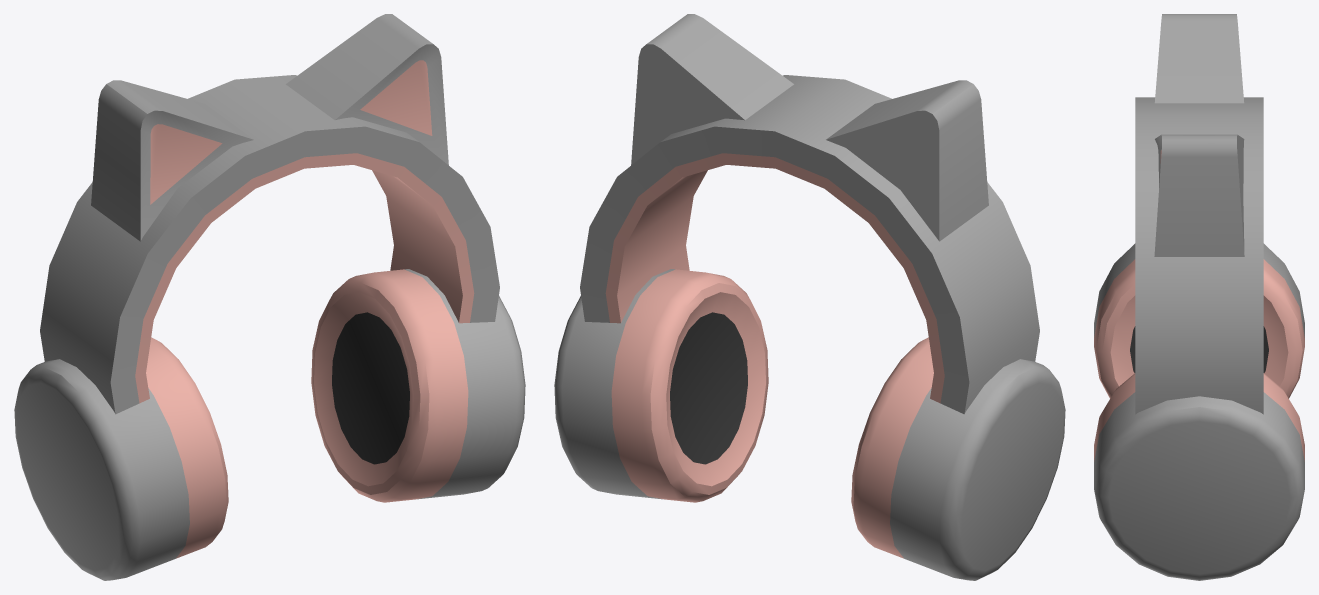
Rendered from kulaklik.fbx.
3 renders of one model, left to right at view 1: azimuth 30°, elevation 25°; view 2: azimuth 150°, elevation 25°; view 3: azimuth 270°, elevation 25°, orthographic. The views are drawn at different scales.
Visible parts, largest first — view 1: kulaklik; view 2: kulaklik; view 3: kulaklik.
Boxes of the visible parts, x1,y1,x2,y2 form: kulaklik: (14,14,525,580); kulaklik: (554,14,1065,580); kulaklik: (1094,14,1304,580).
Size of the model in its own units: 220 by 229 by 103.
